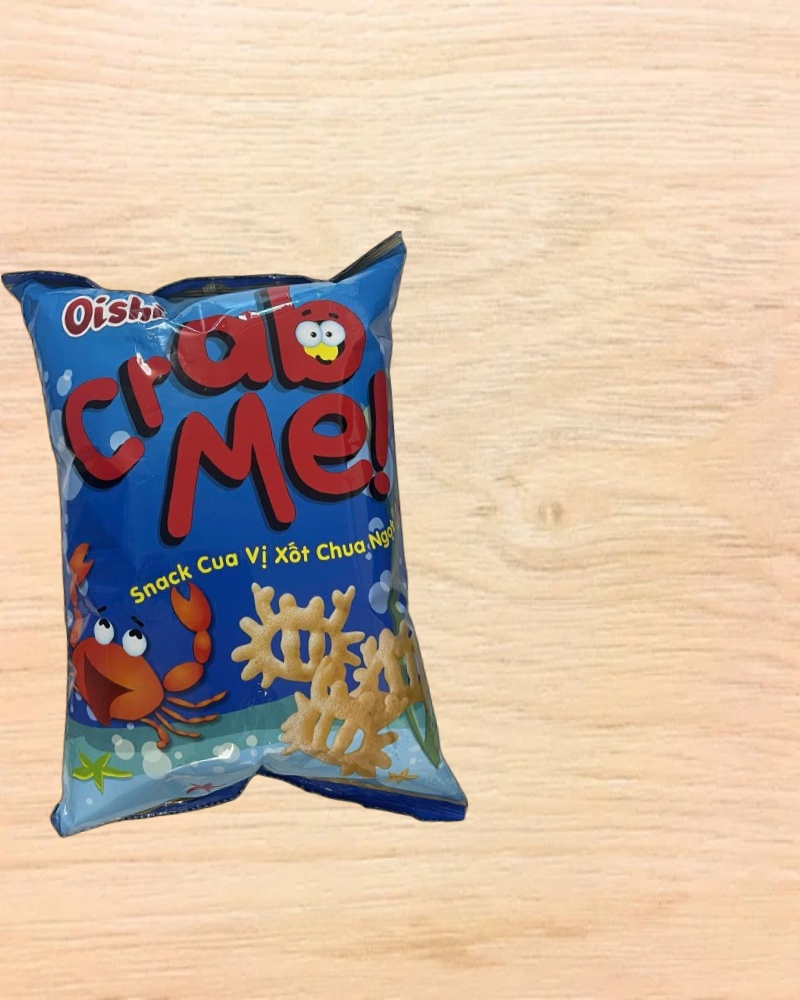Snack chay: (1, 230, 470, 858)
